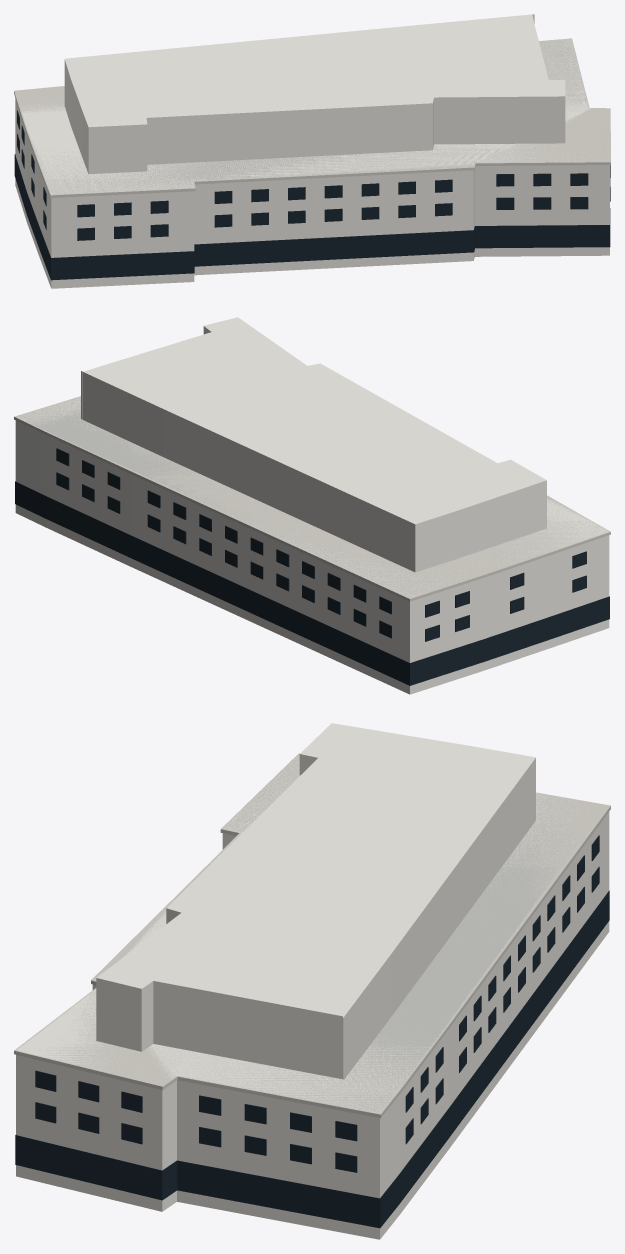
File: theater-am-ring.glb
3 renders of one model, top to bottom at view 1: azimuth 30°, elevation 25°; view 2: azimuth 150°, elevation 25°; view 3: azimuth 270°, elevation 25°, orthographic. The views are drawn at different scales.
Visible parts, largest first — view 1: theater-am-ring_lod0; view 2: theater-am-ring_lod0; view 3: theater-am-ring_lod0.
Part boxes in pixels (left/top/right/bottom): theater-am-ring_lod0: left=14, top=14, right=610, bottom=288; theater-am-ring_lod0: left=14, top=317, right=610, bottom=694; theater-am-ring_lod0: left=14, top=723, right=610, bottom=1239.
Size of what is drawn, in the model's own units: 86.12 by 21 by 60.12.
